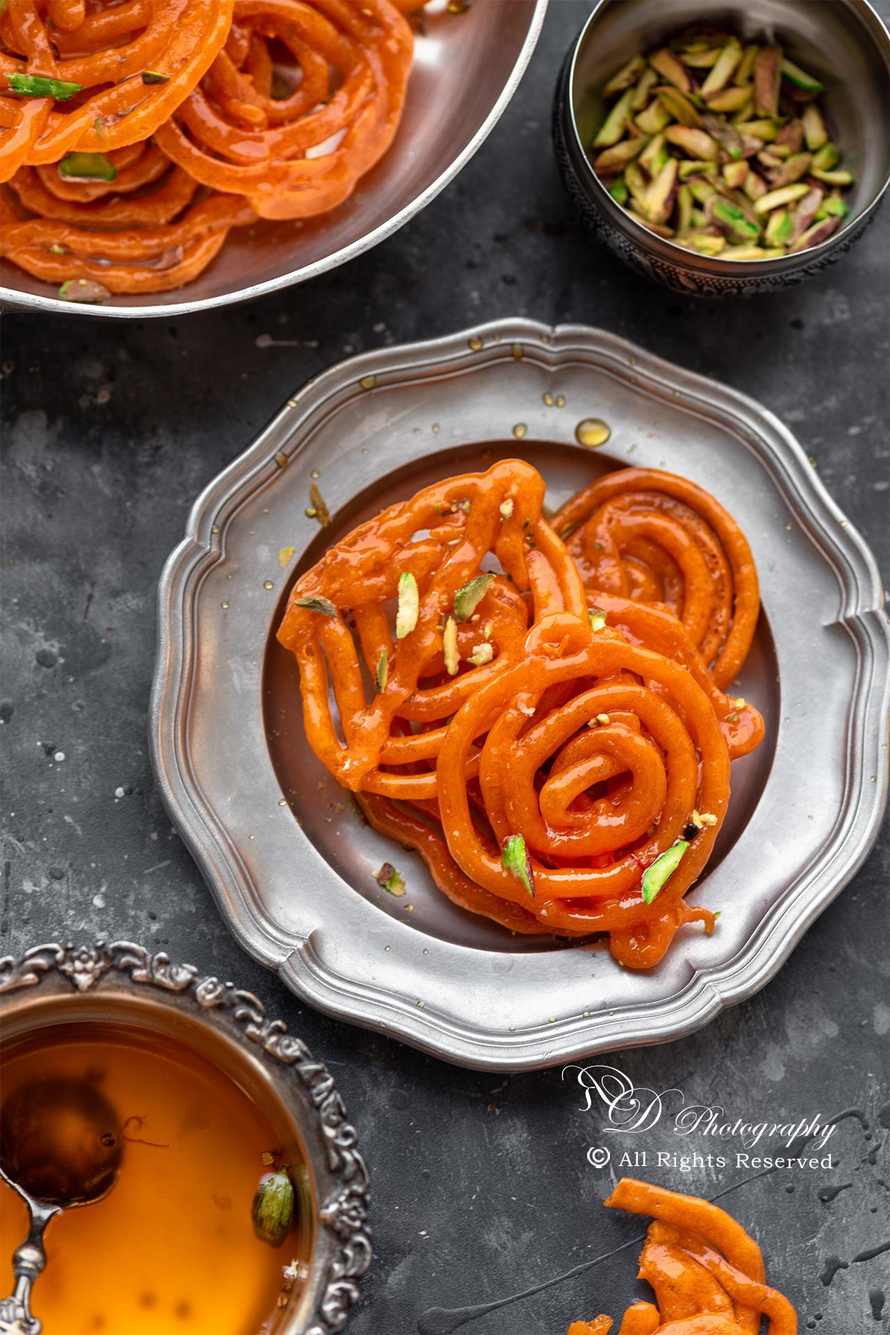jalebi: (261, 457, 789, 966), (3, 16, 514, 260), (573, 1170, 785, 1335)
